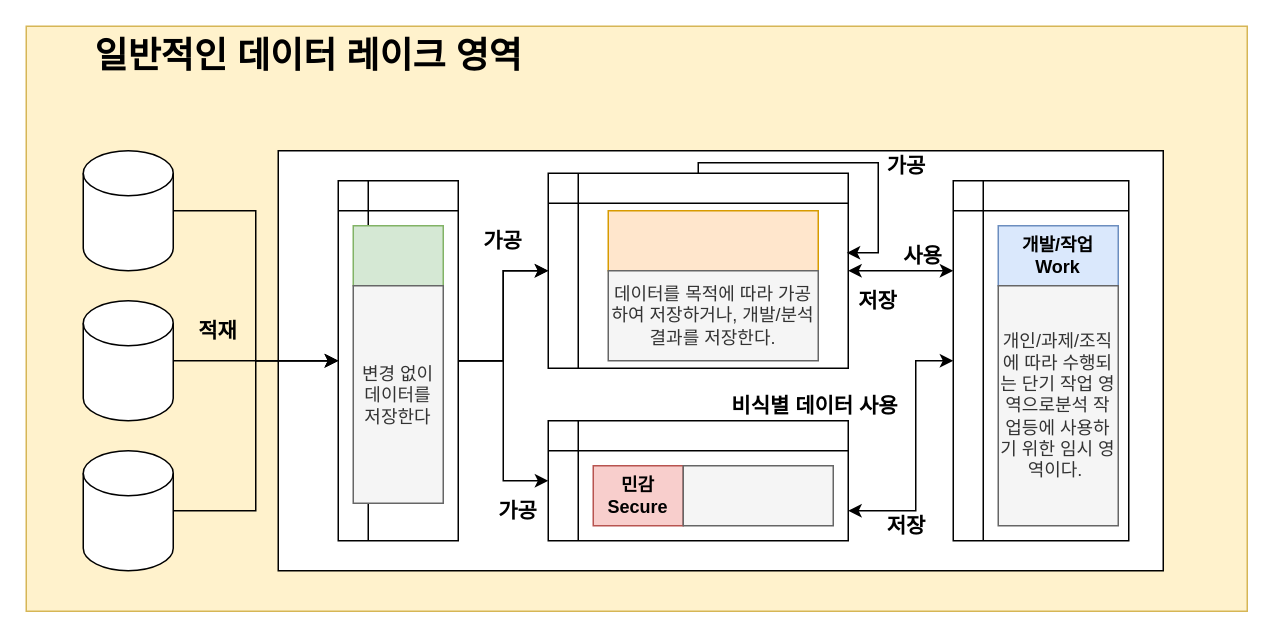
The diagram is 1274 pixels wide and 638 high, and some of its shapes have lost their labels. The centre of each missing label's shape, as x and y in pixels:
"민감정보를 별도 저장/관리한다" belongs at [757,495].
"생산 Gold" belongs at [712,240].
"진입 Stage" belongs at [397,255].
